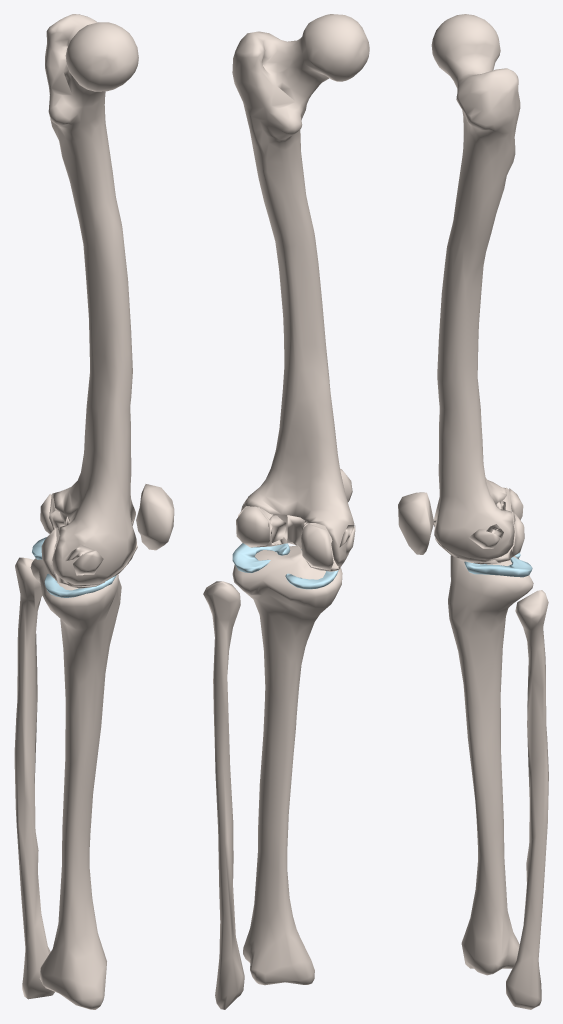
File: 3d-vh-f-knee-l_lod_20.glb
3 renders of one model, left to right at view 1: azimuth 90°, elevation 25°; view 2: azimuth 150°, elevation 25°; view 3: azimuth 270°, elevation 25°, orthographic. The views are drawn at different scales.
Visible parts, largest first — view 1: VH_F_femur_L, VH_F_tibia_L, VH_F_fibula_L, VH_F_patella_L, VH_F_meniscus_L, VH_F_medial_perichondular_surface_L, VH_F_articular_cartilage_of_knee_L, VH_F_medial_condyle_of_left_femur_inf; view 2: VH_F_femur_L, VH_F_tibia_L, VH_F_fibula_L, VH_F_meniscus_L, VH_F_medial_condyle_of_left_femur_inf, VH_F_lateral_condyle_of_femur_inf_L, VH_F_articular_cartilage_of_knee_L, VH_F_posterior_cruciate_enthesis_L; view 3: VH_F_femur_L, VH_F_tibia_L, VH_F_fibula_L, VH_F_patella_L, VH_F_meniscus_L, VH_F_articular_cartilage_of_knee_L, VH_F_lateral_perichondular_surface_L.
Part boxes in pixels (<box>): VH_F_femur_L: <box>45,14,138,584</box>; VH_F_tibia_L: <box>30,558,121,1009</box>; VH_F_fibula_L: <box>14,557,54,999</box>; VH_F_patella_L: <box>136,484,174,550</box>; VH_F_meniscus_L: <box>32,537,116,597</box>; VH_F_medial_perichondular_surface_L: <box>73,550,103,575</box>; VH_F_articular_cartilage_of_knee_L: <box>49,493,137,586</box>; VH_F_medial_condyle_of_left_femur_inf: <box>41,528,57,581</box>; VH_F_femur_L: <box>232,14,369,567</box>; VH_F_tibia_L: <box>232,545,342,985</box>; VH_F_fibula_L: <box>203,581,244,1009</box>; VH_F_meniscus_L: <box>232,543,338,589</box>; VH_F_medial_condyle_of_left_femur_inf: <box>301,523,333,570</box>; VH_F_lateral_condyle_of_femur_inf_L: <box>236,506,269,547</box>; VH_F_articular_cartilage_of_knee_L: <box>238,506,340,570</box>; VH_F_posterior_cruciate_enthesis_L: <box>287,515,304,548</box>; VH_F_femur_L: <box>431,14,520,560</box>; VH_F_tibia_L: <box>448,555,533,975</box>; VH_F_fibula_L: <box>506,590,548,1009</box>; VH_F_patella_L: <box>398,492,434,554</box>; VH_F_meniscus_L: <box>464,552,532,577</box>; VH_F_articular_cartilage_of_knee_L: <box>434,487,515,562</box>; VH_F_lateral_perichondular_surface_L: <box>468,529,499,548</box>.
Bounding box in the file's own units: 0.1015 × 0.772 × 0.1106.
